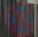No Stopping: (1, 1, 37, 35)
